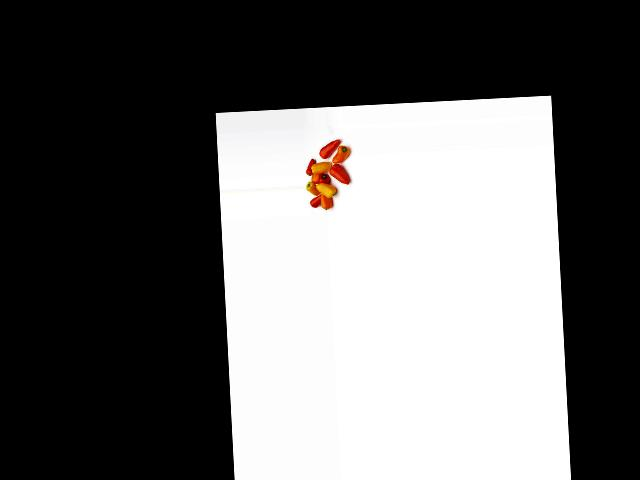bell_pepper: (304, 156, 315, 177)
